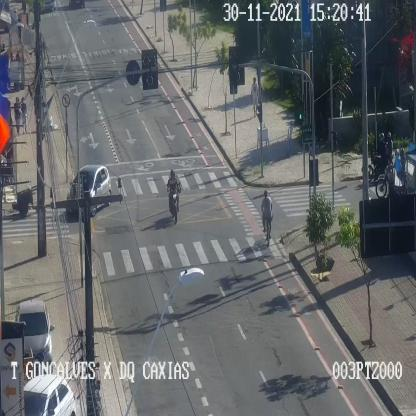bicycle: (261, 190, 272, 245)
car: (17, 299, 54, 365), (66, 164, 111, 215), (23, 375, 75, 415)
motorbike: (375, 148, 410, 198), (368, 132, 393, 182), (166, 168, 180, 223)
person: (13, 96, 21, 136), (250, 77, 258, 117), (21, 97, 28, 135)
